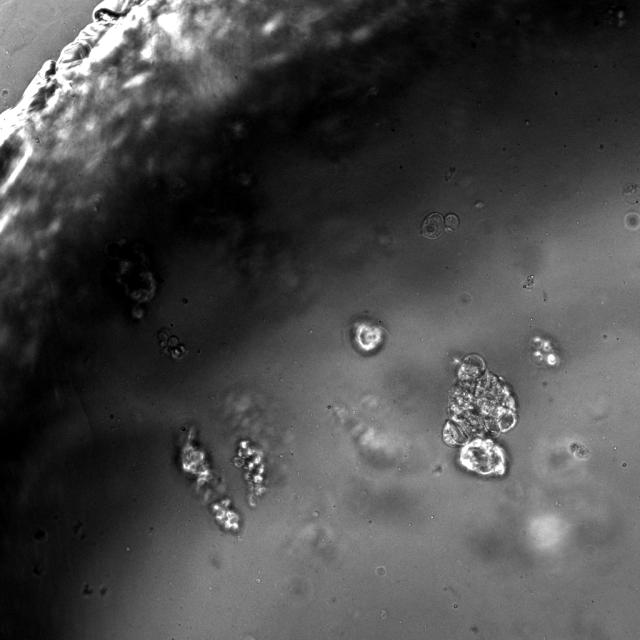organoid: (442, 353, 518, 477), (178, 426, 241, 533), (108, 239, 157, 319), (232, 438, 266, 508), (349, 315, 387, 356), (529, 334, 560, 368), (420, 212, 459, 239), (158, 328, 188, 359), (568, 440, 590, 460)
